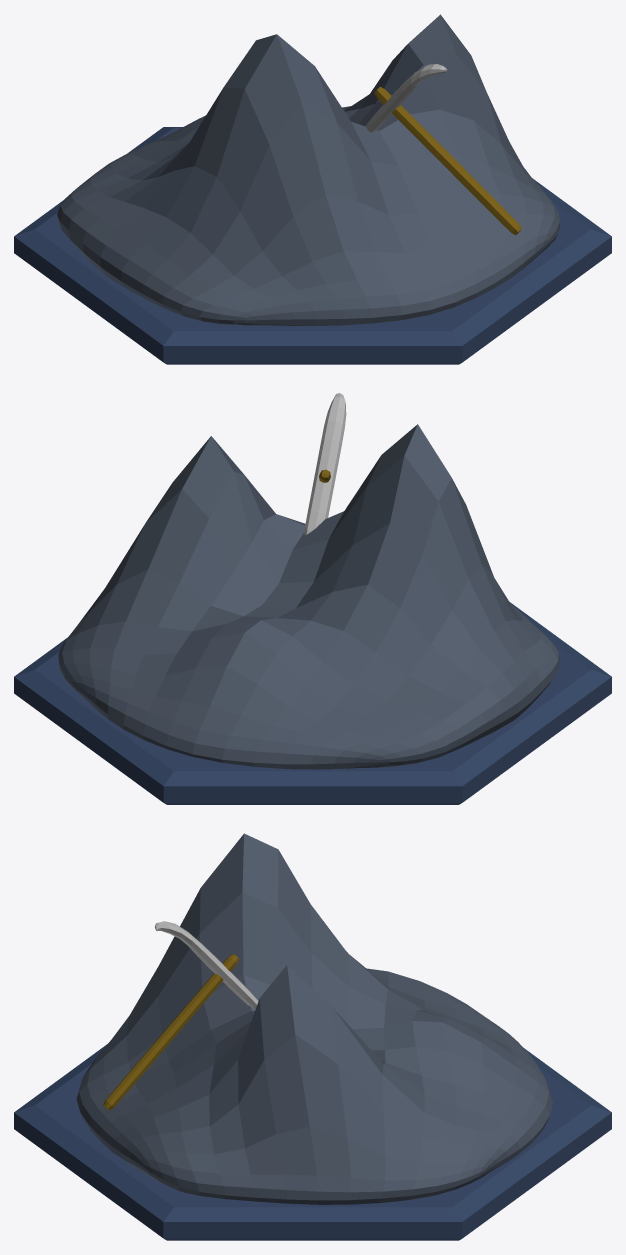
Rendered from ore.fbx.
3 renders of one model, top to bottom at view 1: azimuth 30°, elevation 25°; view 2: azimuth 150°, elevation 25°; view 3: azimuth 270°, elevation 25°, orthographic.
Parts seen in each view (by area): view 1: Tile; view 2: Tile; view 3: Tile.
Part boxes in pixels (left/top/right/bottom): Tile: left=14, top=14, right=611, bottom=364; Tile: left=14, top=393, right=611, bottom=804; Tile: left=14, top=833, right=611, bottom=1240.
Size of the model in its own units: 482 by 282 by 557.
